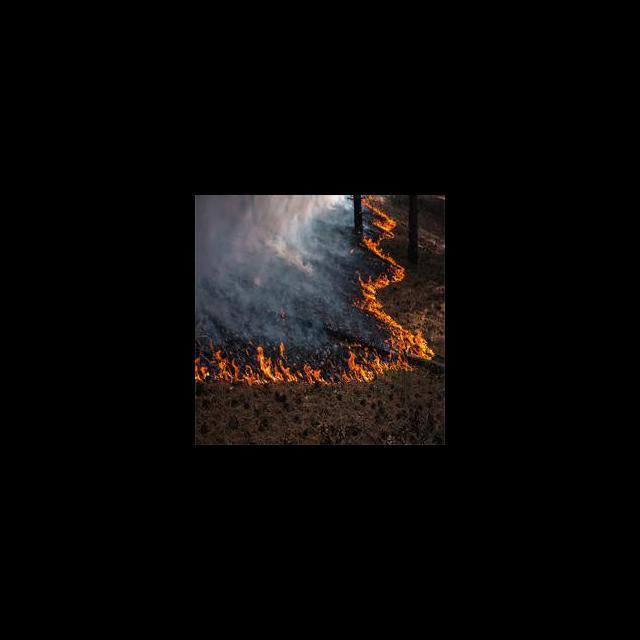Fire: (355, 195, 438, 359), (195, 343, 416, 388)
Smoke: (195, 195, 349, 338)
